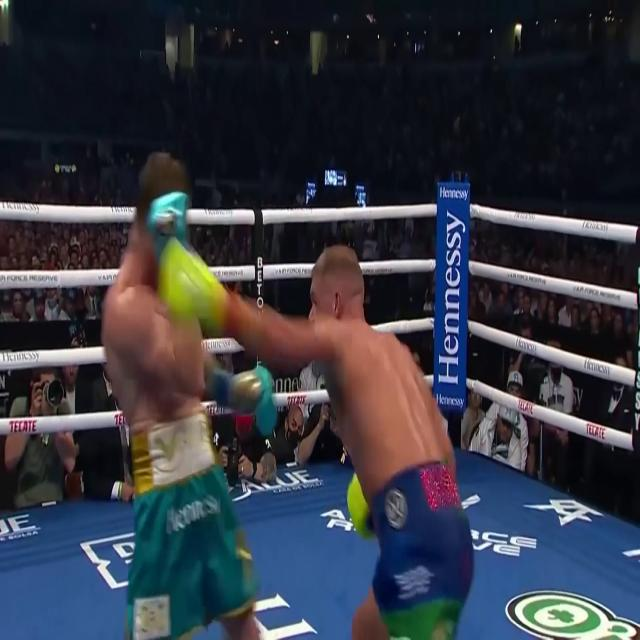boxer_1: (309, 245, 454, 505)
boxer_2: (102, 152, 204, 428)
gloves_1: (158, 235, 228, 327), (348, 475, 373, 537)
gloves_2: (213, 365, 277, 435), (146, 190, 188, 260)
